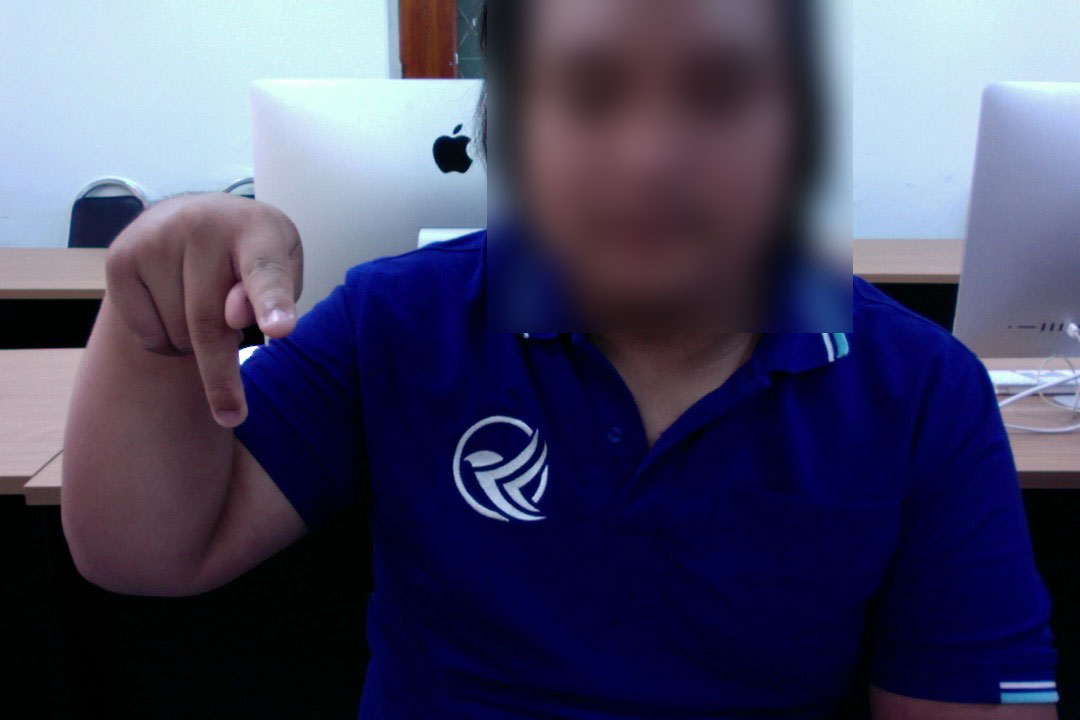por: (102, 183, 307, 436)
